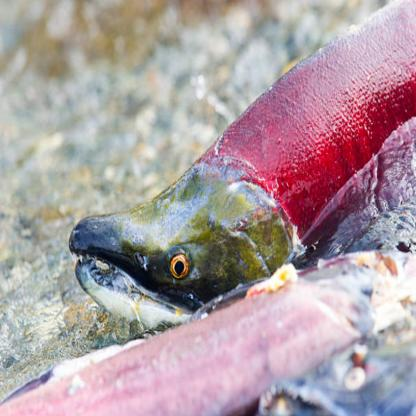sockeye: (76, 0, 416, 333)
